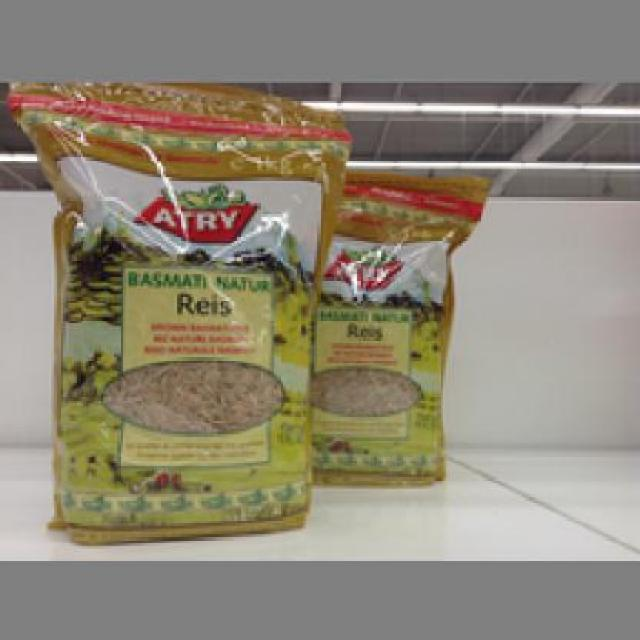Rice: (3, 80, 346, 543), (306, 168, 483, 483)
